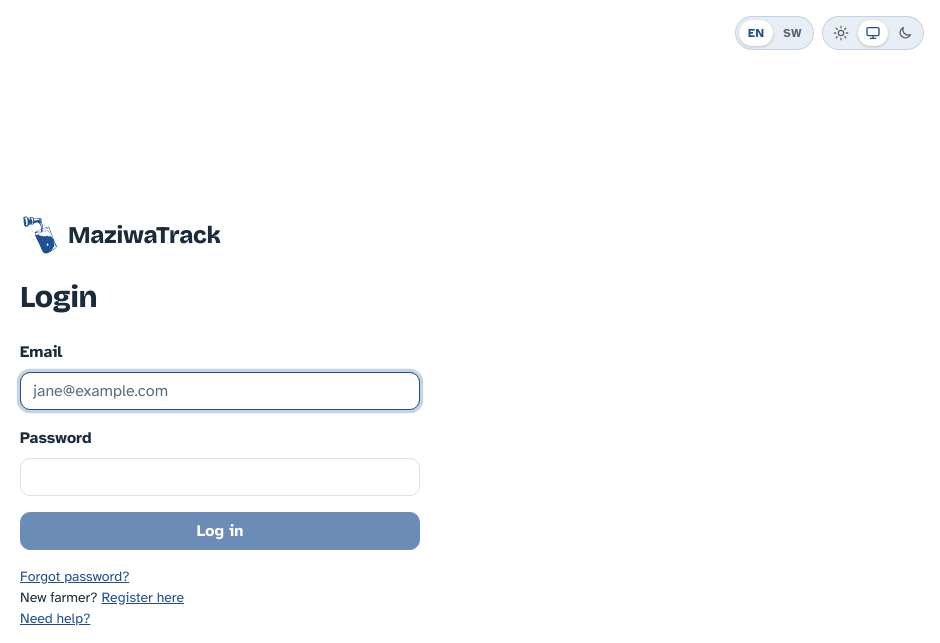
Test: Login › A6: "Resend code" shows the server reply
In the field labelled "Email": (220, 391) [20,372,420,410], type "wanjiku@example.com"
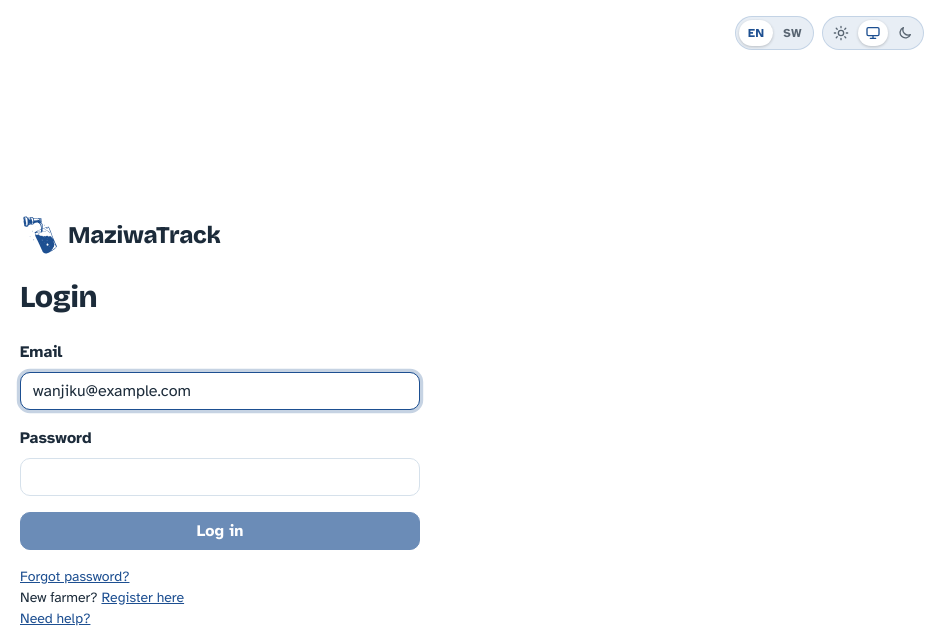
In the password field labelled "Password": (220, 477) [20,458,420,496], type "Password123"
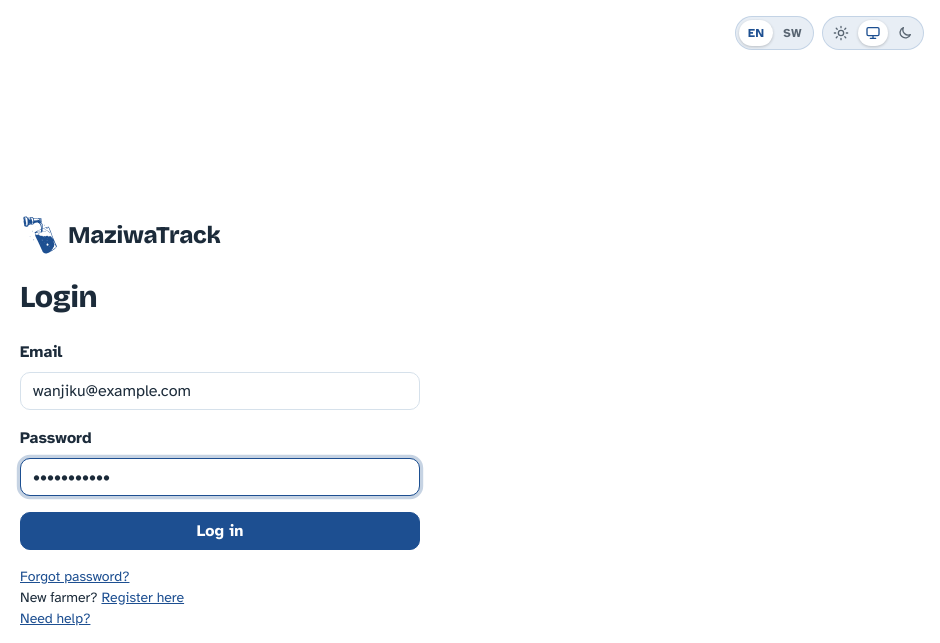
Click the button "Log in": (220, 531) [20,512,420,550]
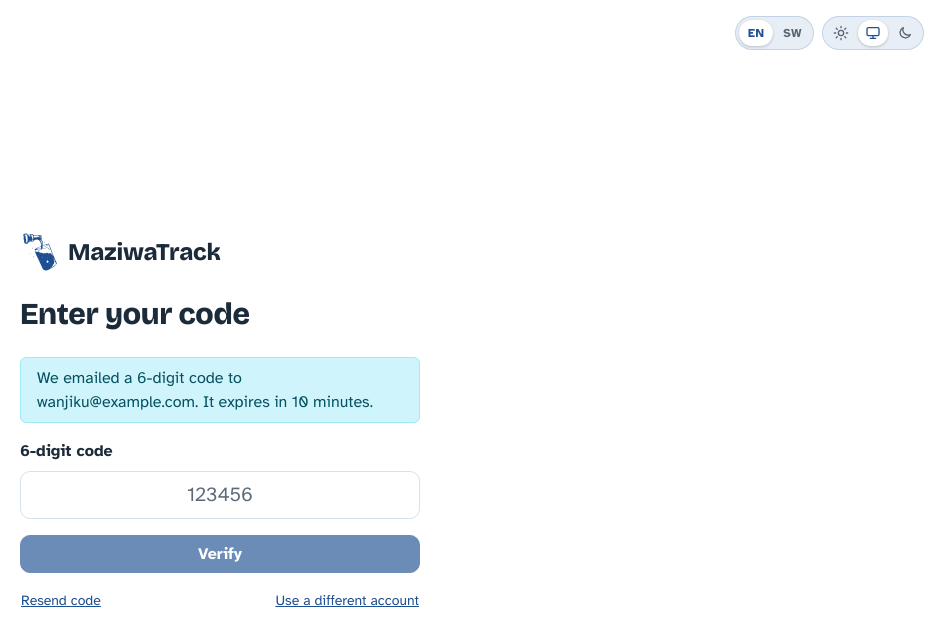
Click the button "Resend code": (61, 600) [20,589,102,612]
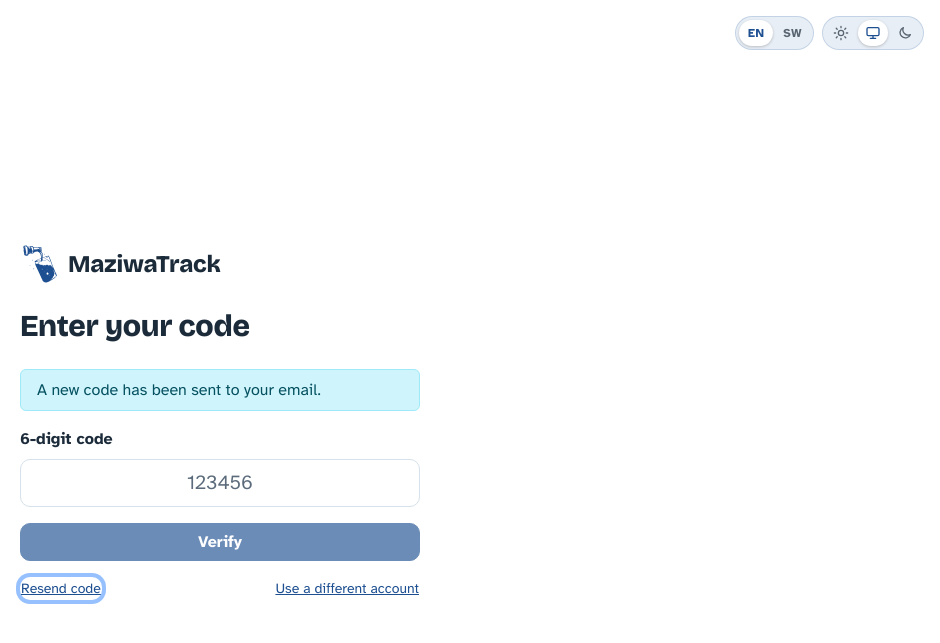
expect the text "A new code has been sent to your email." is shown: met, box [20,369,420,411]
